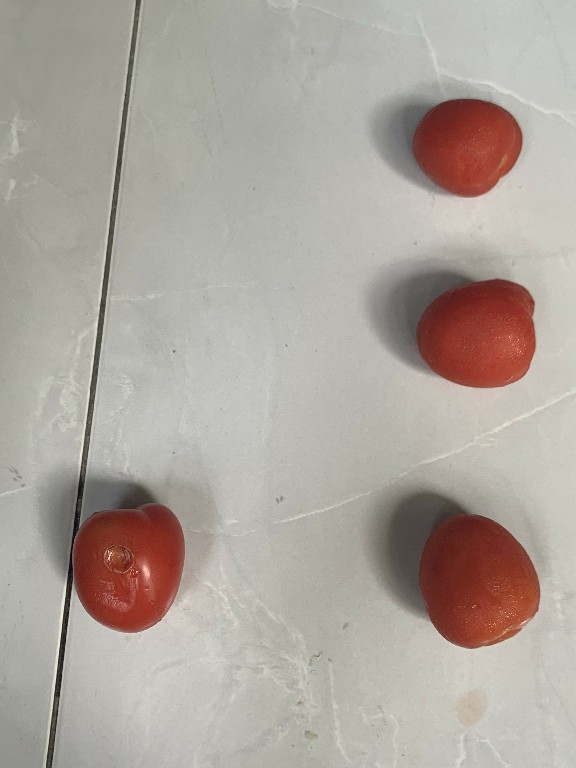NG: (62, 499, 184, 645)
OK: (415, 506, 545, 651), (408, 278, 539, 393), (406, 89, 525, 200)
